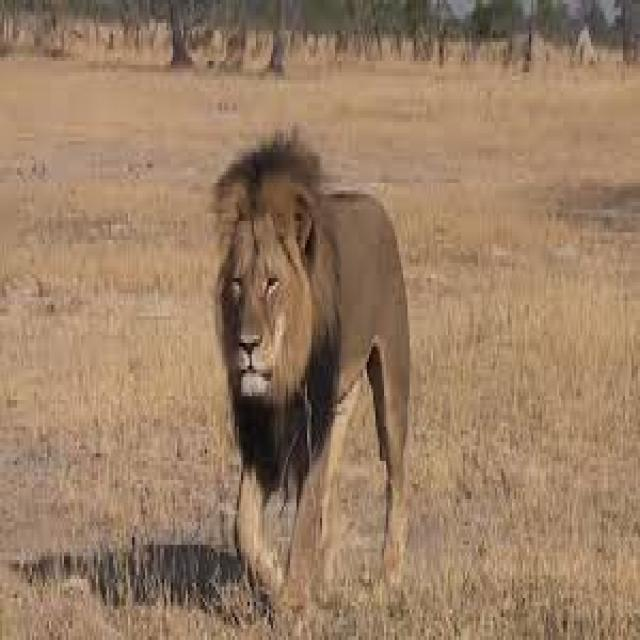Lion: (209, 133, 416, 614)
